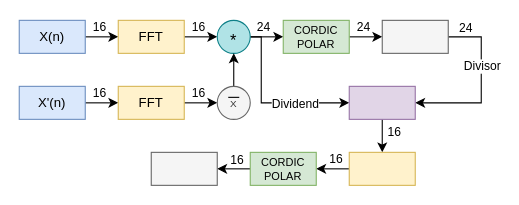
This 519x205 diagram has some shape labels left out. The shapes that lost their labels are listed below. From the top down, each one's box as (x1, y1, x2, y2) in pixels, then its label:
(381, 19, 448, 53): Custom PHAT
(348, 85, 415, 119): Divider
(150, 151, 217, 185): Spectrum
(348, 151, 415, 185): IFFT
